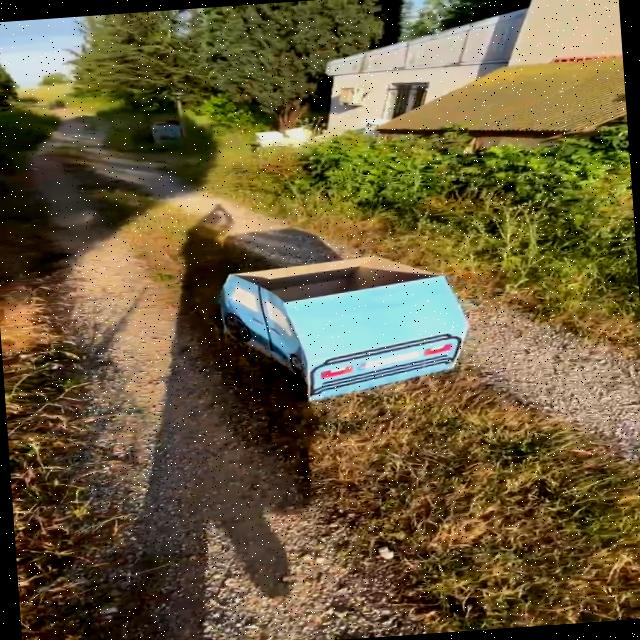blue_car: (151, 225, 519, 418)
